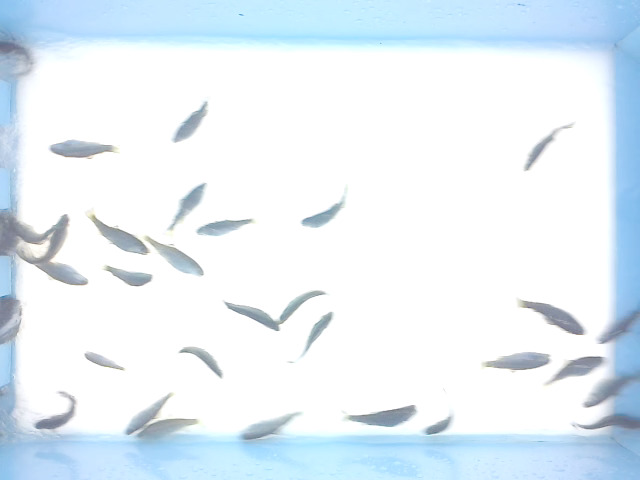fish: (83, 207, 152, 257), (515, 295, 589, 336), (521, 119, 577, 173), (20, 246, 89, 288), (141, 234, 206, 278), (17, 214, 73, 264), (286, 310, 337, 364), (163, 181, 208, 238), (298, 182, 351, 230), (580, 367, 639, 410), (541, 351, 609, 388), (123, 391, 175, 436), (236, 408, 306, 441), (170, 96, 213, 145), (221, 298, 282, 332), (276, 289, 329, 326), (419, 386, 458, 436), (33, 389, 78, 432), (47, 138, 121, 161), (479, 351, 553, 374), (177, 346, 225, 380), (134, 417, 201, 441), (569, 412, 640, 433), (194, 216, 258, 239), (101, 262, 153, 288), (84, 349, 126, 372)
